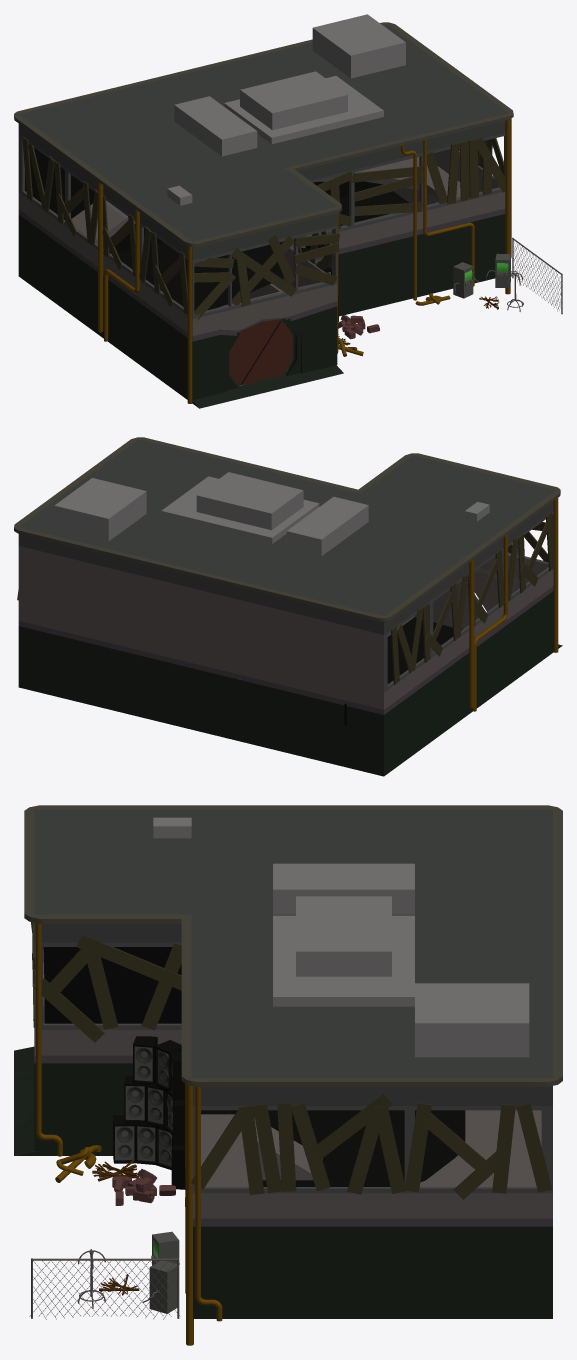
File: 48_DrugLab.fbx
3 views of the same model, one above another, from view 1: azimuth 30°, elevation 25°; view 2: azimuth 150°, elevation 25°; view 3: azimuth 270°, elevation 25° (orthographic). The views are drawn at different scales.
Parts seen in each view (by area): view 1: group1_polySurface69, pCylinder498, pCylinder499, pCylinder508, pCylinder511, pCylinder512, pCylinder509, pCube139; view 2: group1_polySurface69, pCylinder498, pCylinder508, pCylinder499; view 3: group1_polySurface69, pCylinder511, pCylinder506, pCylinder505, pCube139, pCylinder510.
Boxes of the visible parts, left/top/right/bottom form: group1_polySurface69: left=14, top=14, right=562, bottom=408; pCylinder498: left=187, top=246, right=192, bottom=403; pCylinder499: left=104, top=209, right=139, bottom=341; pCylinder508: left=98, top=182, right=103, bottom=332; pCylinder511: left=505, top=119, right=510, bottom=294; pCylinder512: left=401, top=145, right=416, bottom=300; pCylinder509: left=423, top=139, right=474, bottom=236; pCube139: left=338, top=315, right=379, bottom=339; group1_polySurface69: left=14, top=437, right=562, bottom=776; pCylinder498: left=553, top=498, right=558, bottom=652; pCylinder508: left=469, top=559, right=474, bottom=708; pCylinder499: left=472, top=534, right=507, bottom=711; group1_polySurface69: left=14, top=805, right=562, bottom=1319; pCylinder511: left=186, top=1084, right=193, bottom=1345; pCylinder506: left=195, top=1086, right=222, bottom=1321; pCylinder505: left=36, top=923, right=62, bottom=1156; pCube139: left=112, top=1169, right=175, bottom=1205; pCylinder510: left=55, top=1145, right=101, bottom=1182.
Bounding box in the file's own units: 14.75 × 7.51 × 12.36.
